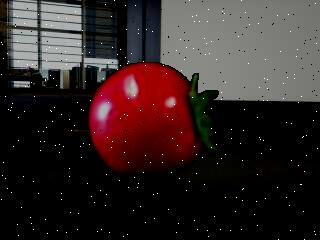Tomato: (87, 61, 220, 181)
